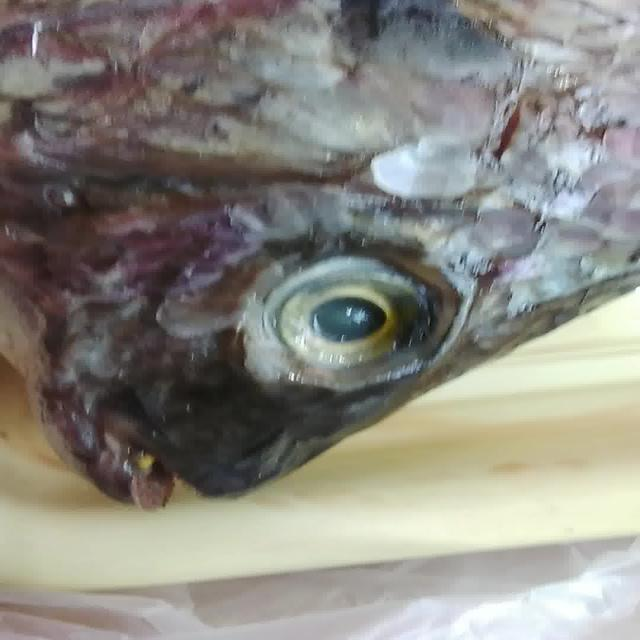Non-Fresh: (231, 229, 468, 408)
